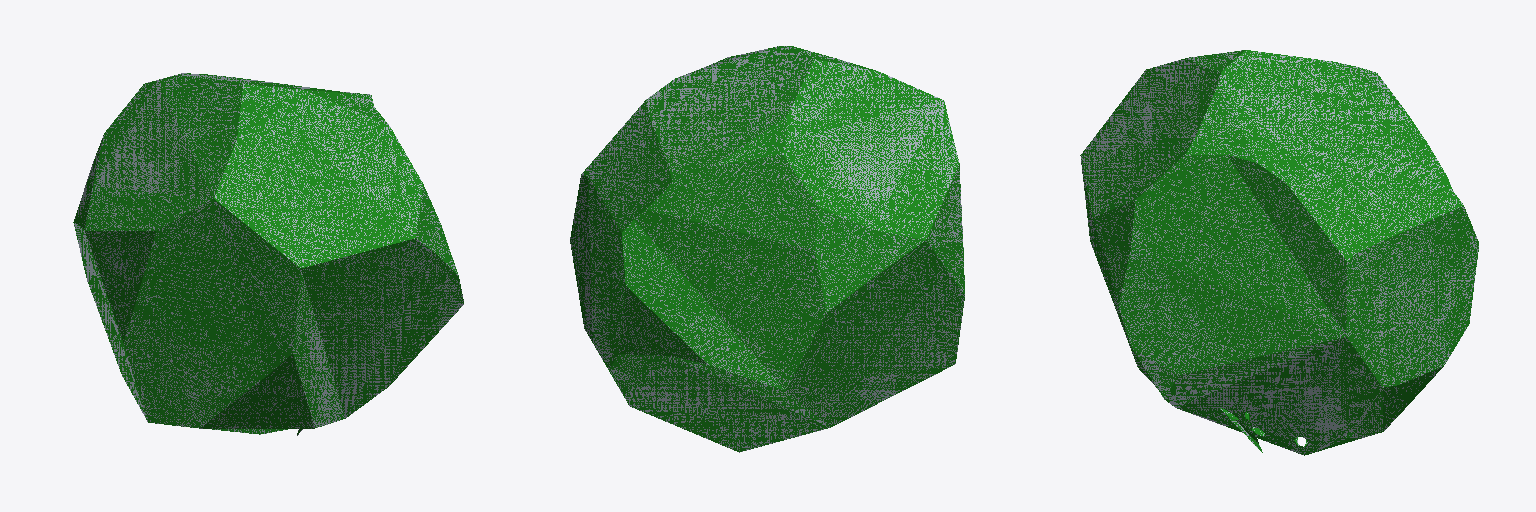
Rendered from Rowan_leaves(green).obj.
The picture shows the model from 3 angles: view 1: azimuth 30°, elevation 25°; view 2: azimuth 150°, elevation 25°; view 3: azimuth 270°, elevation 25°; orthographic projection.
Visible parts, largest first — view 1: Mesh1 Component_11_1 Model; view 2: Mesh1 Component_11_1 Model; view 3: Mesh1 Component_11_1 Model.
Part boxes in pixels (bbox=[...]): Mesh1 Component_11_1 Model: bbox=[73, 73, 463, 435]; Mesh1 Component_11_1 Model: bbox=[570, 46, 964, 452]; Mesh1 Component_11_1 Model: bbox=[1080, 50, 1478, 455].
Bounding box in the file's own units: 5323 × 5911 × 5577.